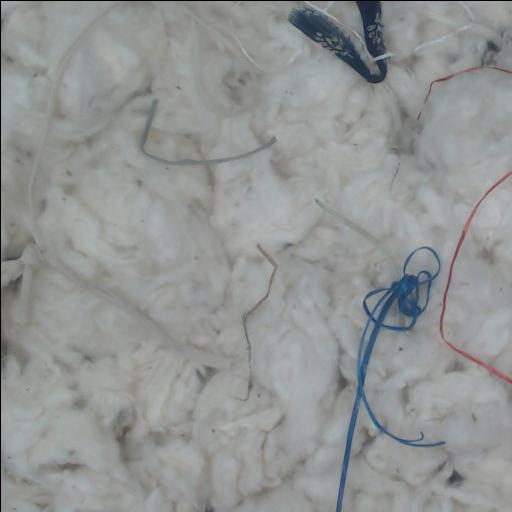cloth: (1, 1, 236, 372), (288, 1, 389, 82)
cotton: (1, 1, 512, 512)
thread: (315, 199, 444, 512), (438, 169, 512, 384), (417, 57, 512, 119), (139, 100, 228, 166), (242, 244, 277, 385), (228, 137, 275, 161), (455, 1, 474, 31)
